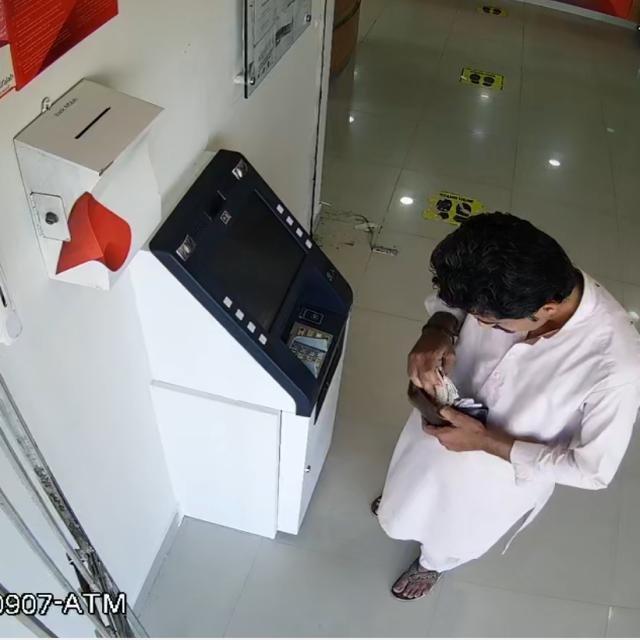note: (421, 357, 463, 409)
